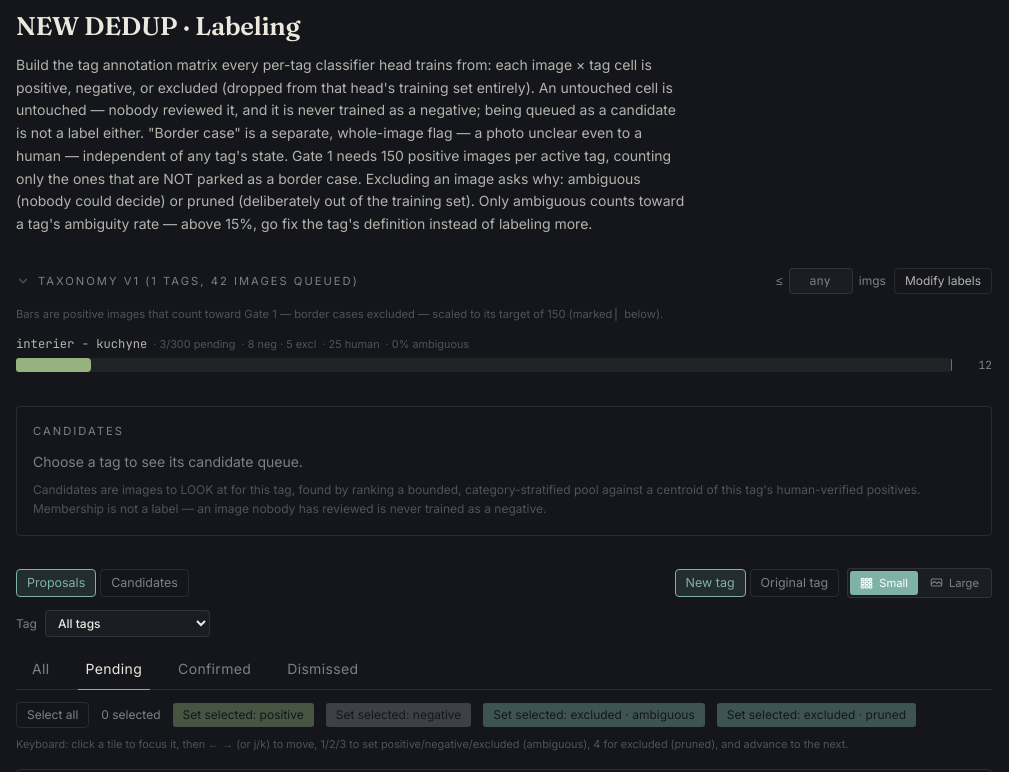
it: <NewDedupLabeling> › says "never drawn" rather than printing a missing date
Expected: the button "interier - kuchyne" is shown, [16,335,147,353]
Select "interier - kuchyne (12)" in the dropdown labelled "Tag". click: (128,624)
box: [45,610,210,637]
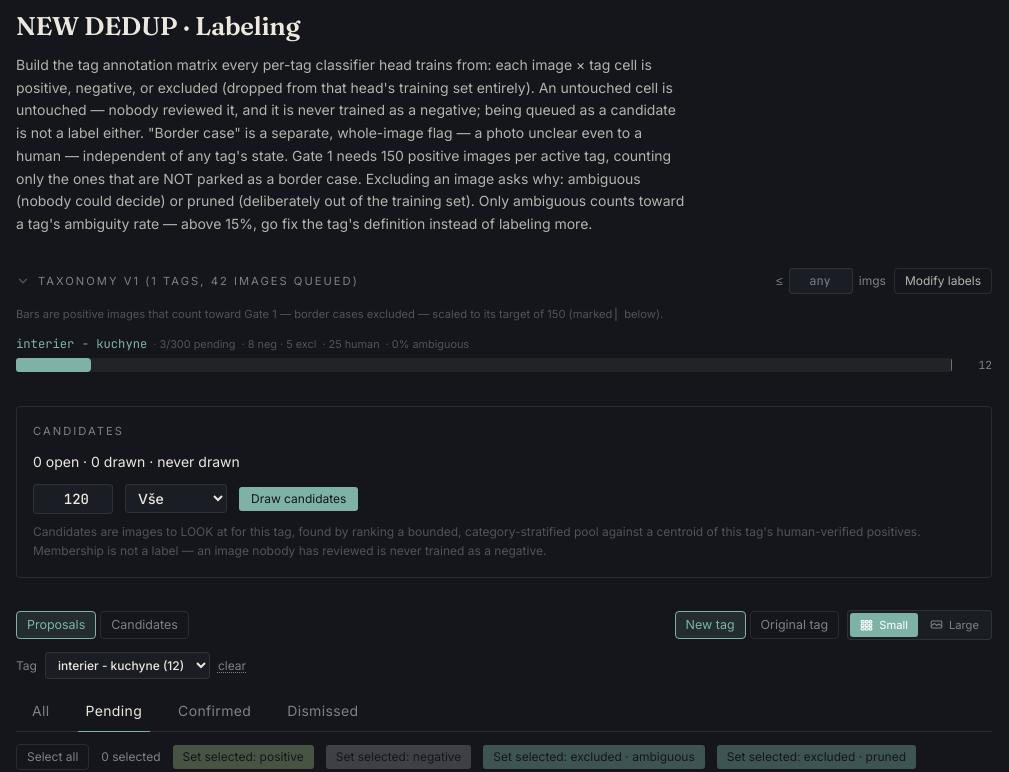
Now the button "Draw candidates" is shown, box [239,487,358,511]
Now the text "0 open · 0 drawn · never drawn" is shown, box [33,453,240,470]
